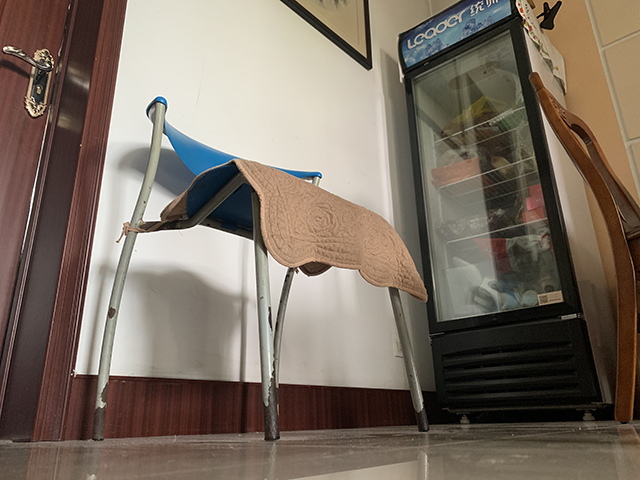stool: (90, 94, 431, 441)
